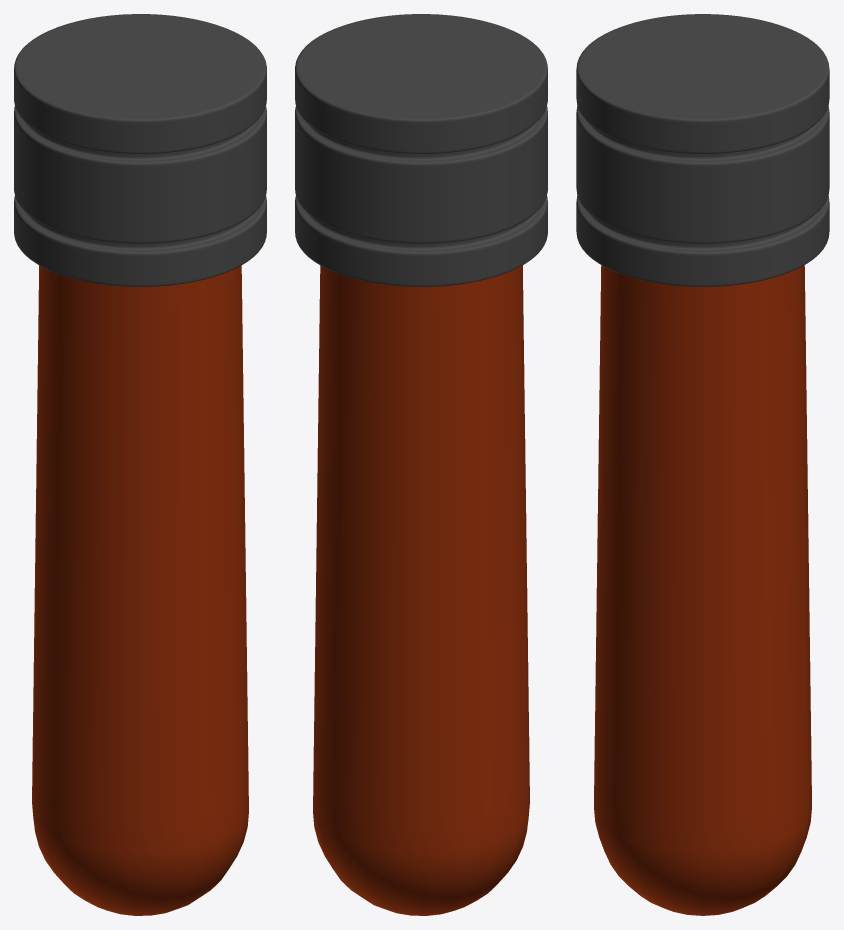
Rendered from redvile.fbx.
3 renders of one model, left to right at view 1: azimuth 30°, elevation 25°; view 2: azimuth 150°, elevation 25°; view 3: azimuth 270°, elevation 25°, orthographic.
Parts seen in each view (by area): view 1: pSphere2, polySurface4; view 2: pSphere2, polySurface4; view 3: pSphere2, polySurface4.
Part boxes in pixels (<box>): pSphere2: <box>32,265,248,915</box>; polySurface4: <box>14,14,266,286</box>; pSphere2: <box>313,265,529,915</box>; polySurface4: <box>295,14,547,286</box>; pSphere2: <box>594,265,811,915</box>; polySurface4: <box>576,14,829,286</box>.
Size of the model in its own units: 6.84 by 25.02 by 6.84.
